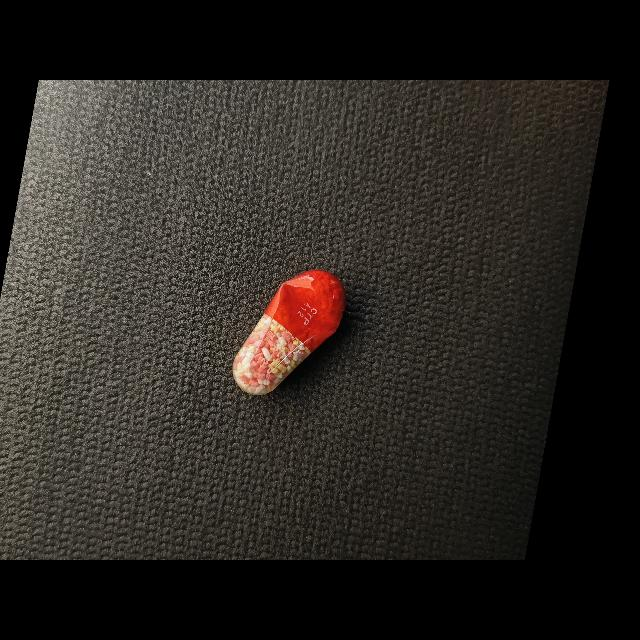Defective Capsule: (233, 270, 346, 395)
